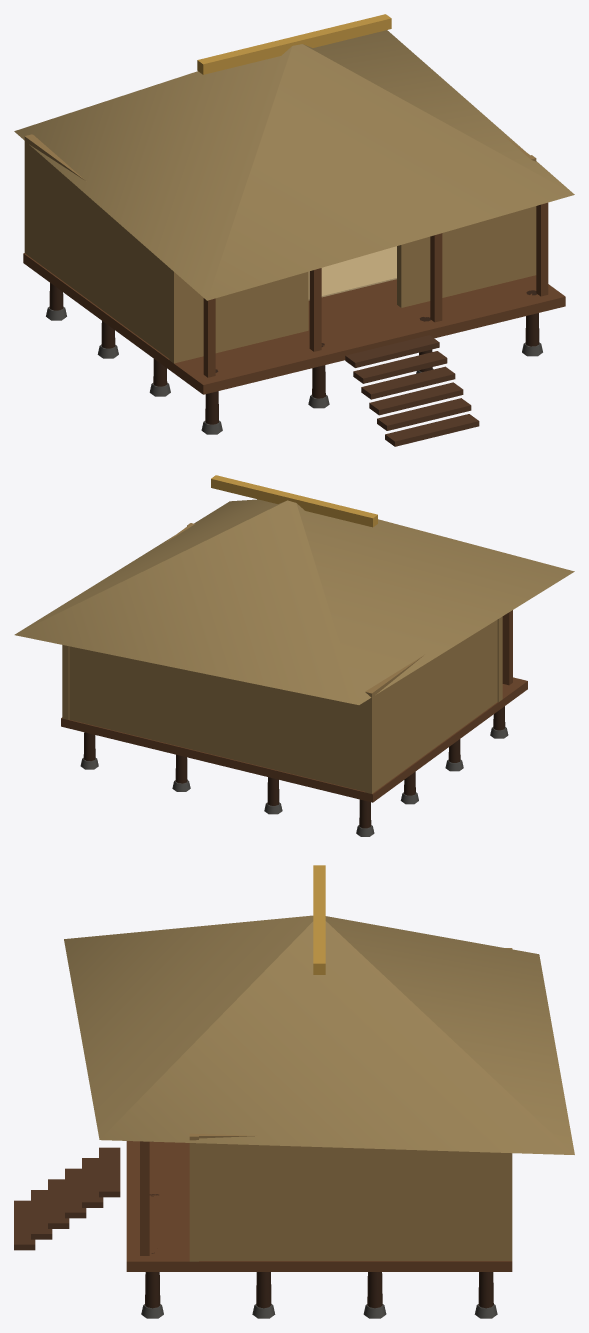
The model's file is sulah-nyanda.glb.
3 renders of one model, top to bottom at view 1: azimuth 30°, elevation 25°; view 2: azimuth 150°, elevation 25°; view 3: azimuth 270°, elevation 25°, orthographic. The views are drawn at different scales.
Parts seen in each view (by area): view 1: ROOF_SYSTEM, WALL_SYSTEM, FLOOR_SYSTEM, ENTRANCE_STAIRS, STRUCTURAL_COLUMNS, INTERIOR_MAT, FOUNDATION_SYSTEM; view 2: ROOF_SYSTEM, WALL_SYSTEM, FLOOR_SYSTEM, STRUCTURAL_COLUMNS, FOUNDATION_SYSTEM; view 3: ROOF_SYSTEM, WALL_SYSTEM, FLOOR_SYSTEM, ENTRANCE_STAIRS, STRUCTURAL_COLUMNS, FOUNDATION_SYSTEM.
Boxes of the visible parts, left/top/right/bottom form: ROOF_SYSTEM: left=14, top=14, right=574, bottom=300; WALL_SYSTEM: left=24, top=134, right=536, bottom=363; FLOOR_SYSTEM: left=23, top=253, right=565, bottom=394; ENTRANCE_STAIRS: left=345, top=335, right=479, bottom=446; STRUCTURAL_COLUMNS: left=49, top=202, right=548, bottom=424; INTERIOR_MAT: left=308, top=246, right=396, bottom=300; FOUNDATION_SYSTEM: left=46, top=306, right=542, bottom=434; ROOF_SYSTEM: left=14, top=475, right=574, bottom=704; WALL_SYSTEM: left=62, top=523, right=502, bottom=793; FLOOR_SYSTEM: left=61, top=677, right=527, bottom=802; STRUCTURAL_COLUMNS: left=83, top=610, right=512, bottom=828; FOUNDATION_SYSTEM: left=80, top=727, right=508, bottom=836; ROOF_SYSTEM: left=64, top=865, right=574, bottom=1154; WALL_SYSTEM: left=189, top=948, right=512, bottom=1261; FLOOR_SYSTEM: left=126, top=1141, right=512, bottom=1271; ENTRANCE_STAIRS: left=14, top=1147, right=120, bottom=1250; STRUCTURAL_COLUMNS: left=140, top=1141, right=493, bottom=1308; FOUNDATION_SYSTEM: left=141, top=1304, right=497, bottom=1318.
Size of what is drawn, in the model's own units: 9.81 by 6.7 by 10.76.
